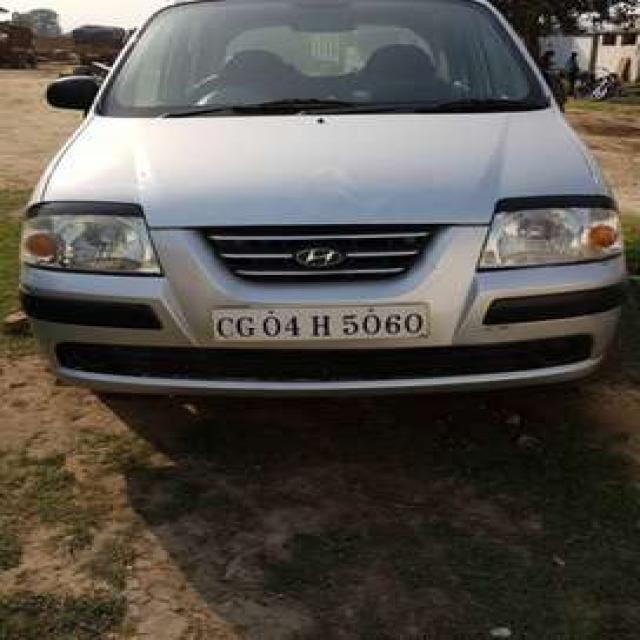license-plate: (210, 300, 423, 340)
